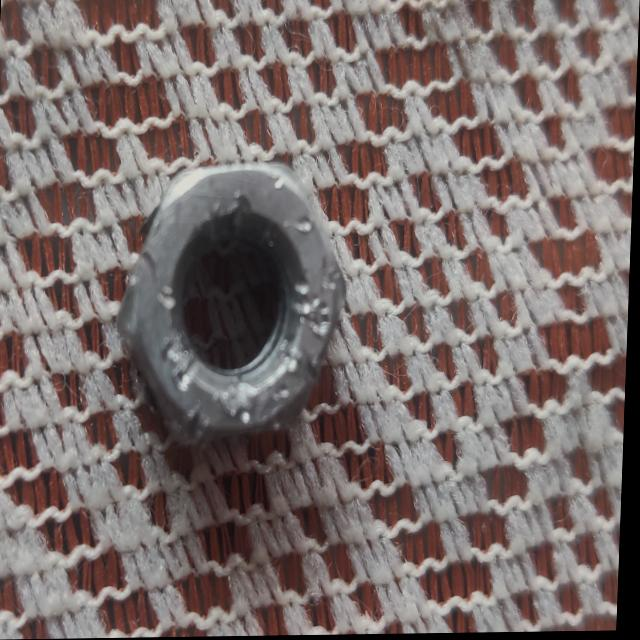infected nut: (120, 163, 347, 444)
